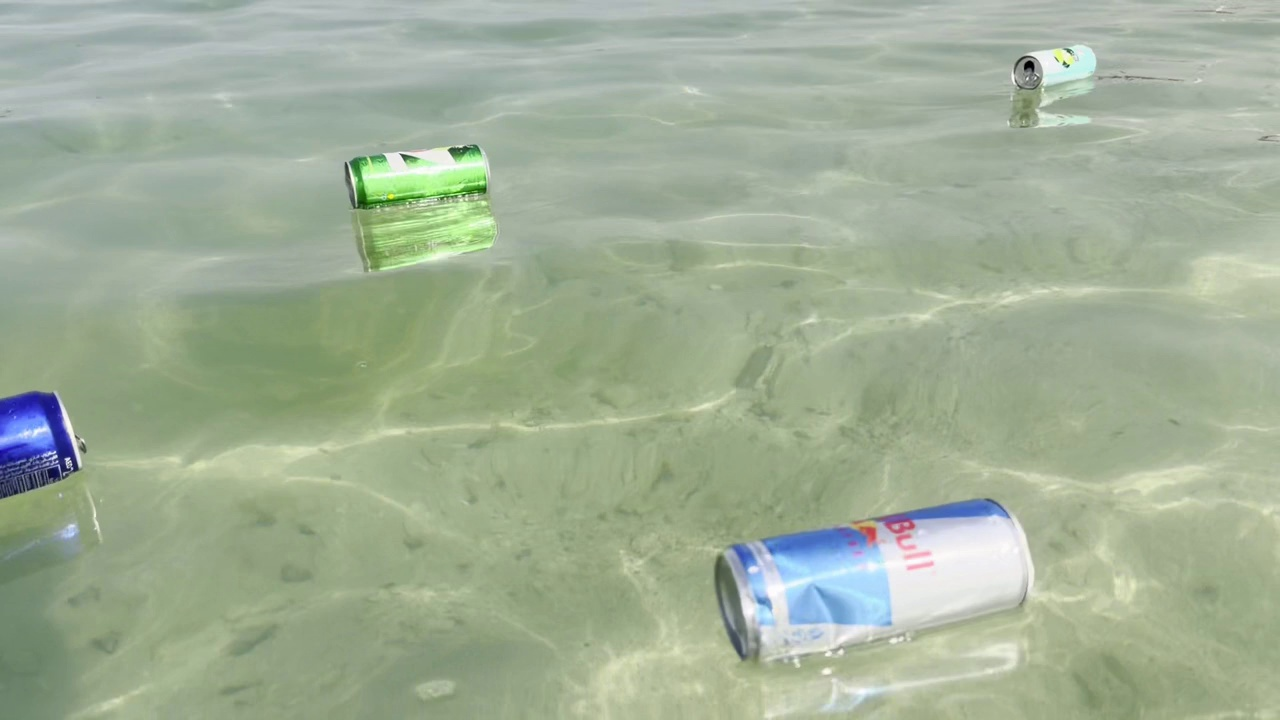debris: (698, 462, 1044, 671), (0, 372, 96, 509), (333, 137, 493, 213), (1002, 37, 1102, 95)
